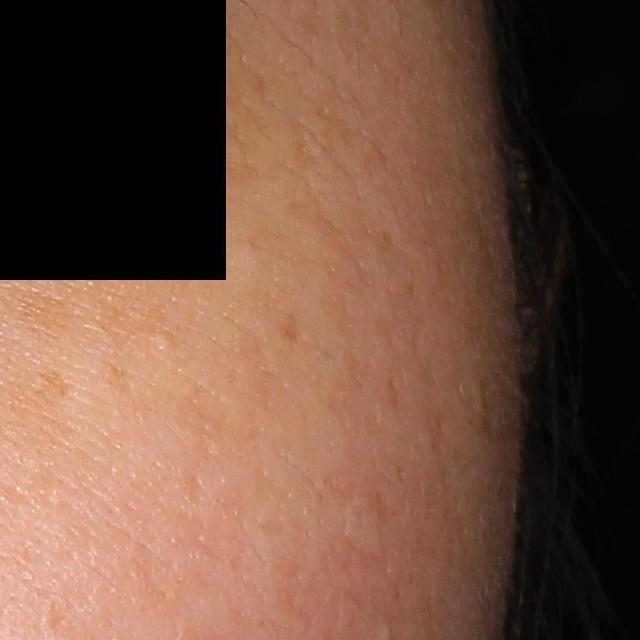comedo: (152, 328, 178, 354)
melasma: (5, 283, 83, 349), (31, 371, 69, 402)
